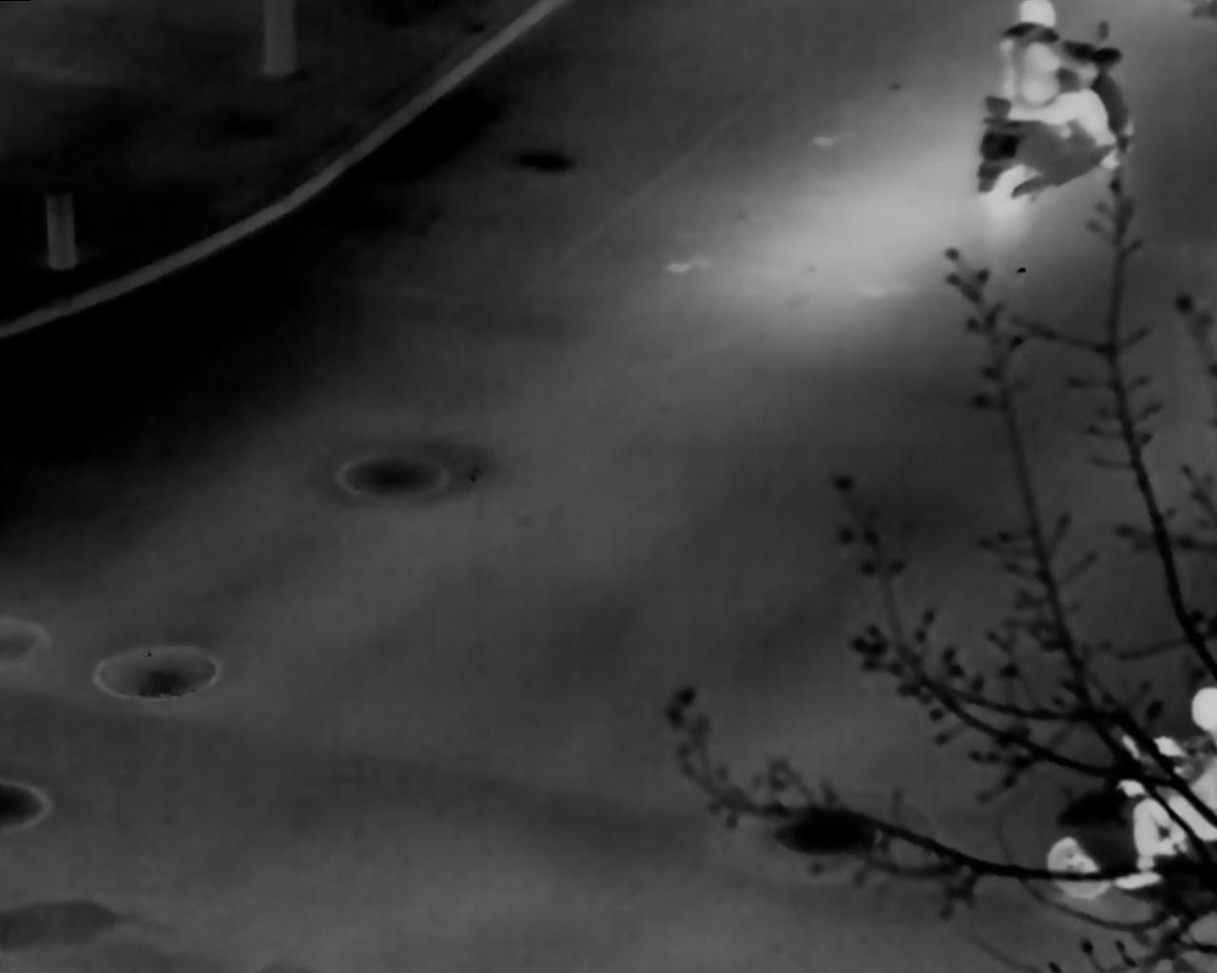person: (1117, 684, 1217, 890)
